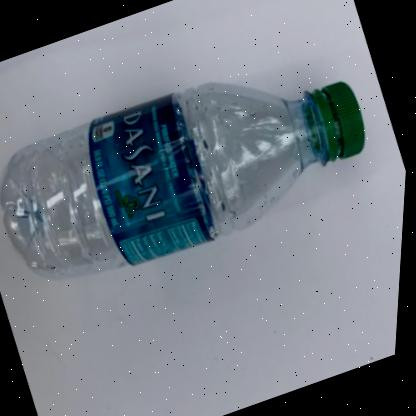Plastic: (1, 81, 366, 279)
